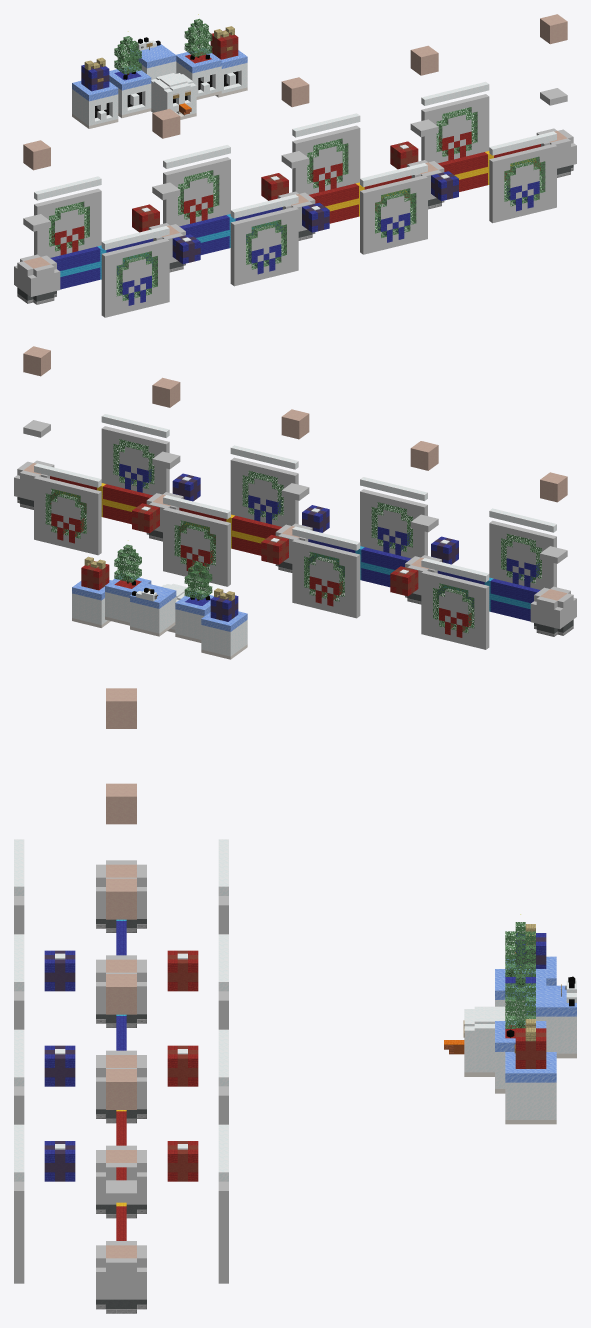
File: minecraft.obj
The picture shows the model from 3 angles, top to bottom: view 1: azimuth 30°, elevation 25°; view 2: azimuth 150°, elevation 25°; view 3: azimuth 270°, elevation 25°; orthographic projection. The views are drawn at different scales.
Size of the model in its own units: 93 by 25 by 55.
